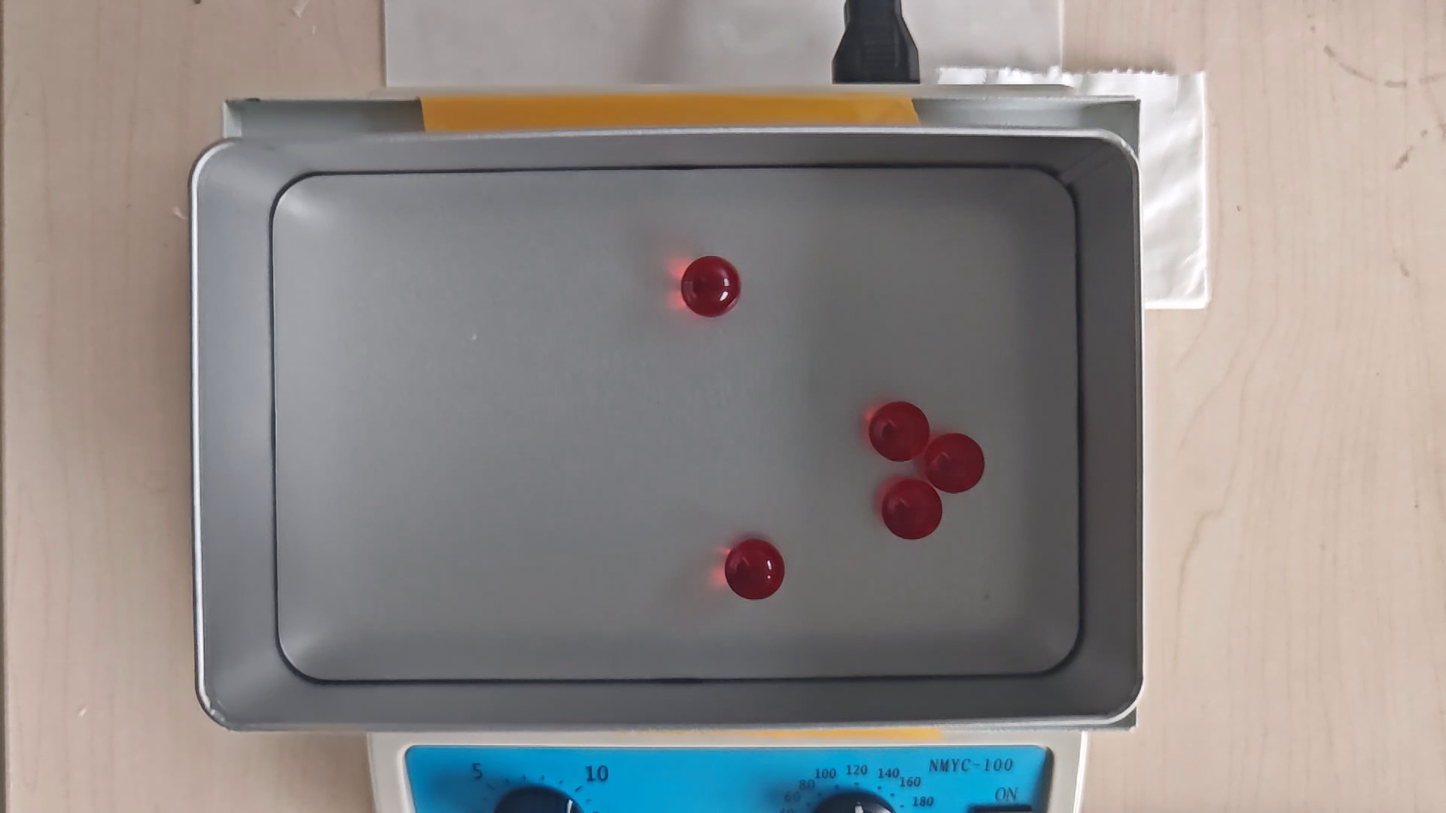ball: (725, 538, 787, 601), (682, 254, 741, 318), (882, 480, 942, 540), (870, 402, 930, 461), (927, 434, 985, 493)
container: (273, 166, 1080, 681)
